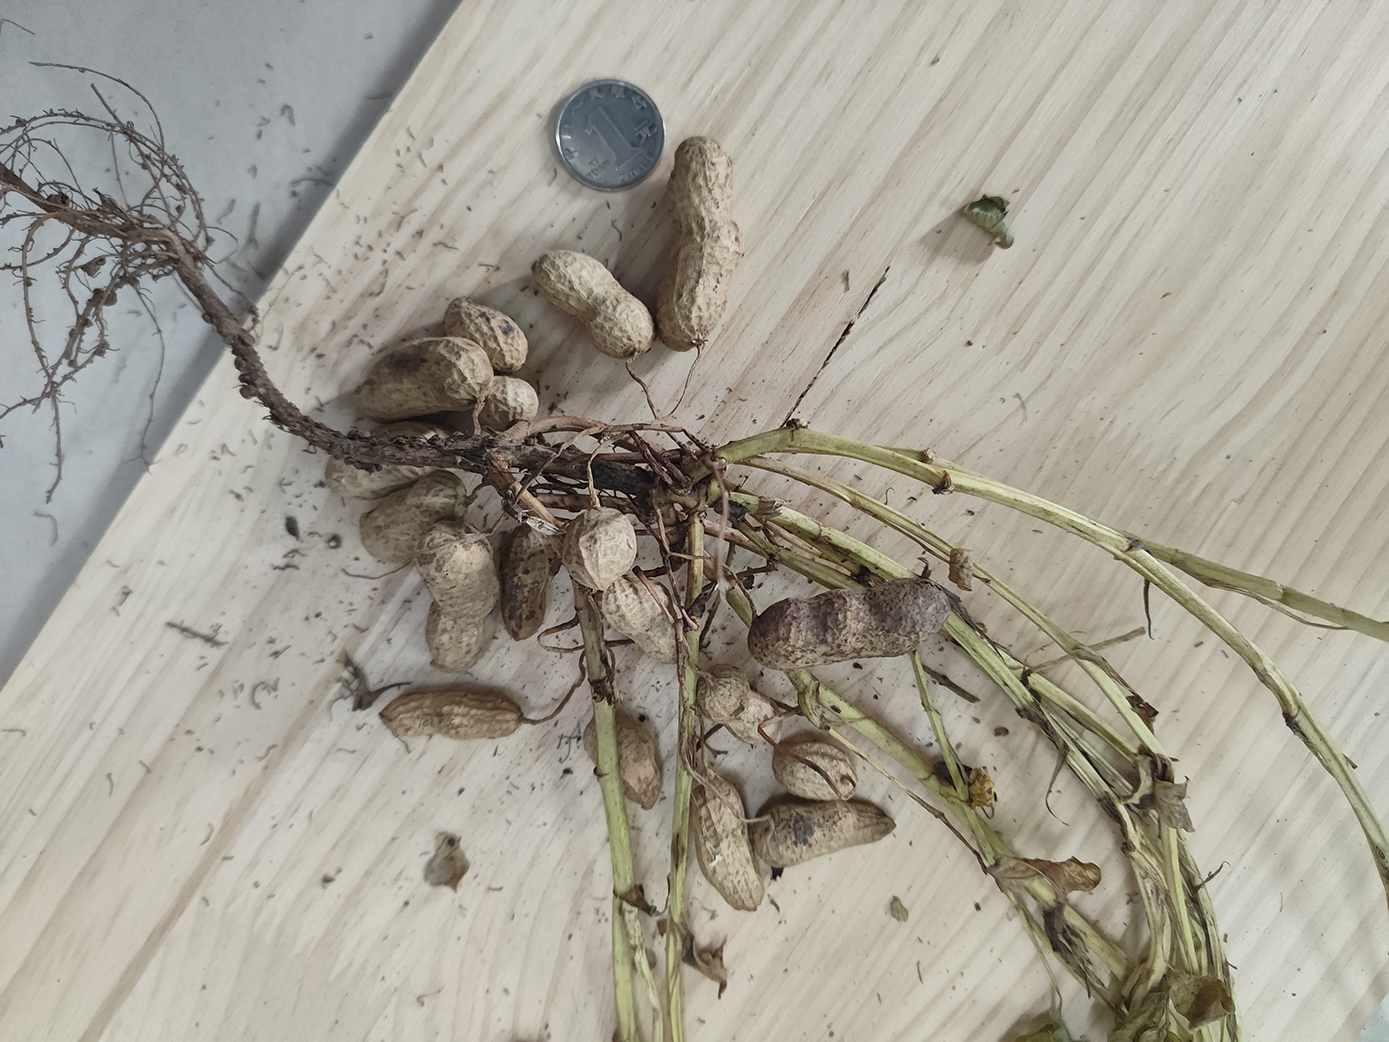h: (653, 137, 744, 352), (533, 248, 653, 357), (418, 523, 499, 676), (354, 334, 494, 420), (687, 779, 765, 913), (361, 471, 470, 565), (327, 424, 458, 500), (752, 800, 899, 865), (584, 711, 662, 810), (604, 581, 685, 665), (443, 294, 531, 372), (380, 692, 523, 739), (697, 669, 779, 750), (503, 522, 556, 641), (562, 510, 637, 591), (769, 739, 855, 801), (475, 377, 539, 429)
l: (746, 580, 951, 667)
